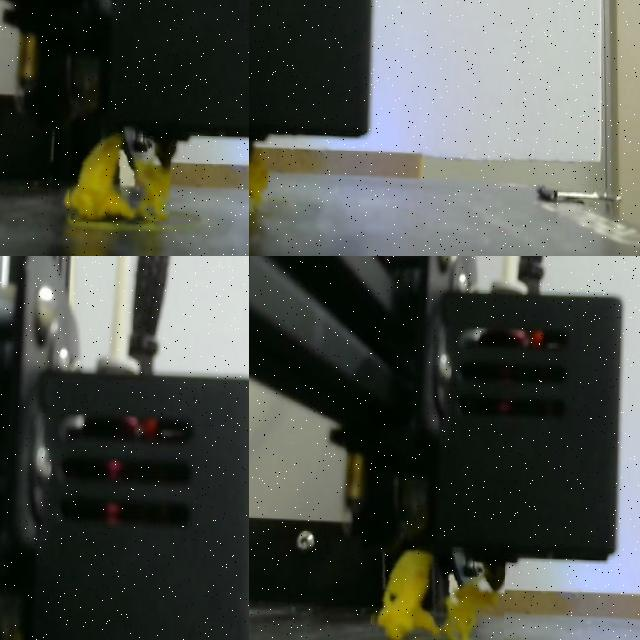spaghetti: (365, 544, 505, 640), (68, 134, 170, 221)
